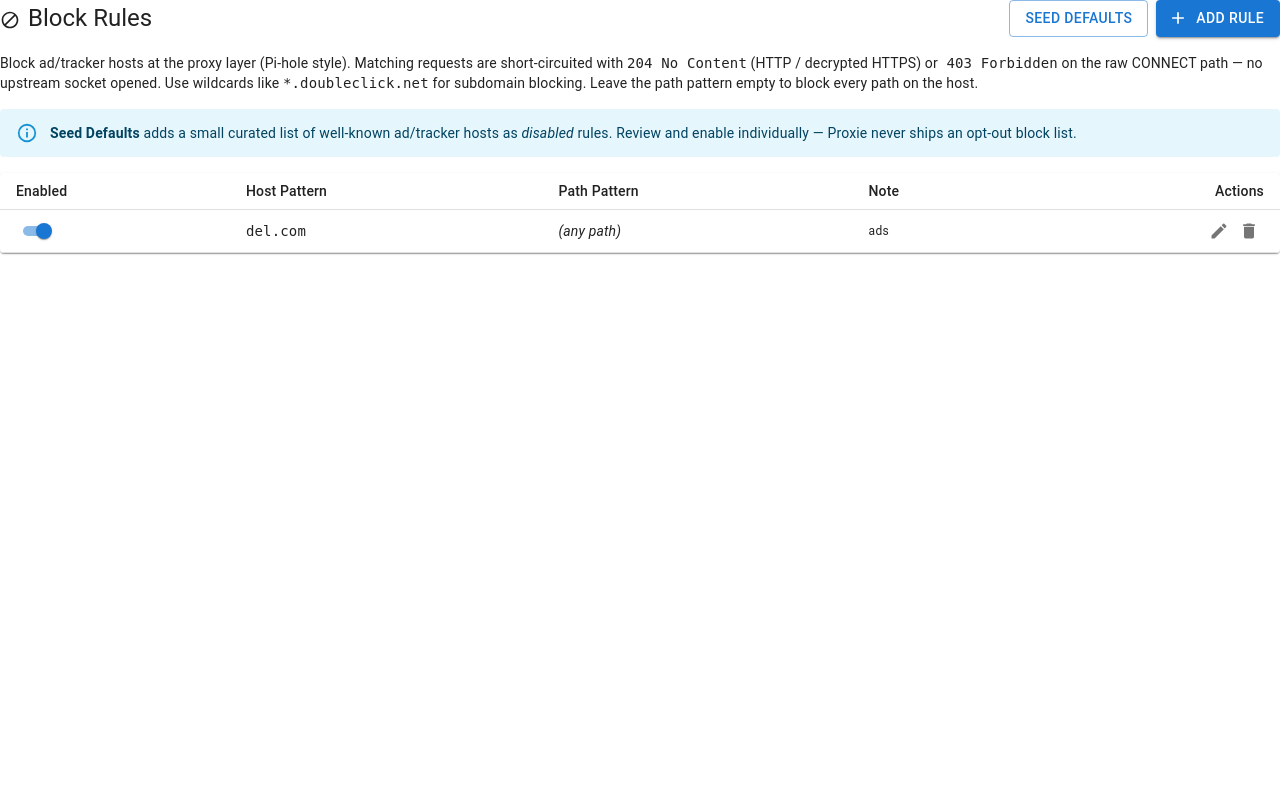
Scenario: BlockRulesPage — additional coverage › logs an error when delete_block_rule rejects
The image size is (1280, 800).
Expected: the text "del.com" is shown, [246, 222, 306, 238]
Click the button named "delete del.com" at {"x": 1249, "y": 230}, box [1234, 216, 1264, 246]
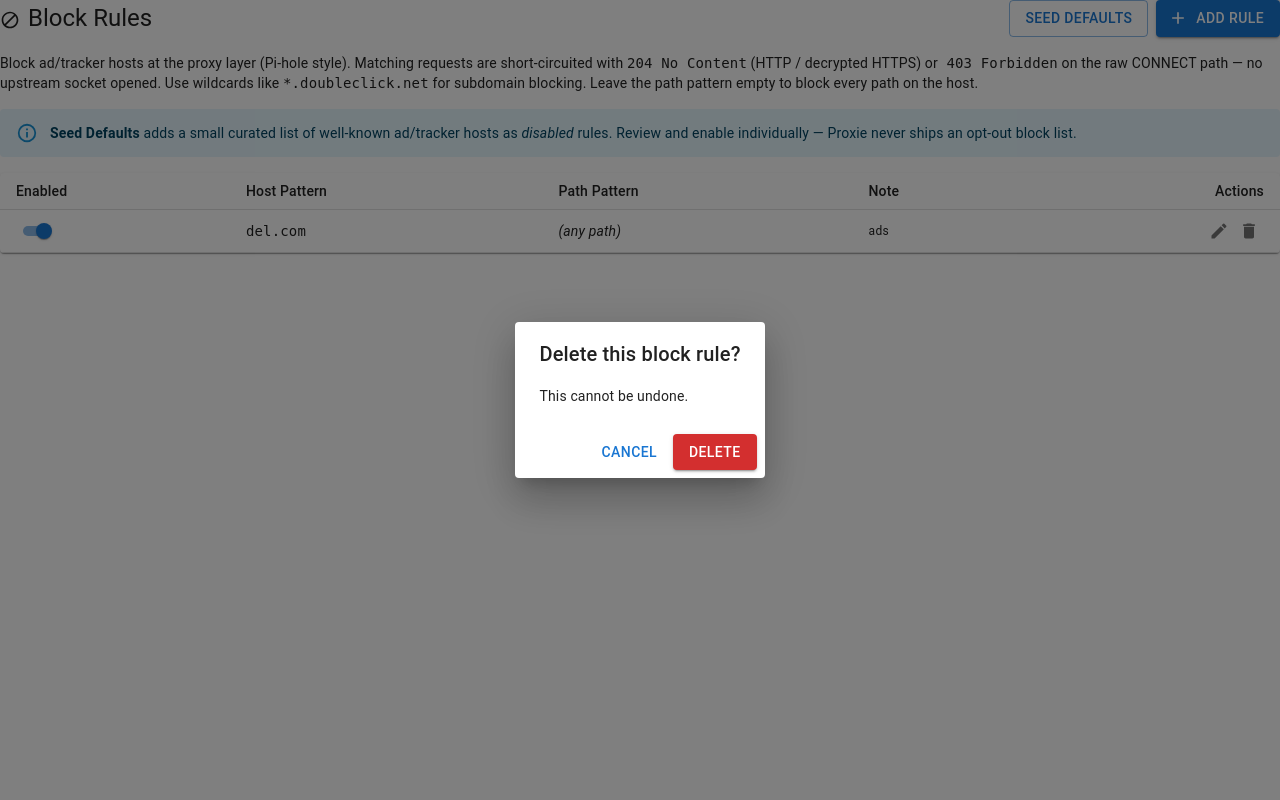
Click the button with test id "confirm-delete" at {"x": 715, "y": 452}, box [673, 434, 756, 470]
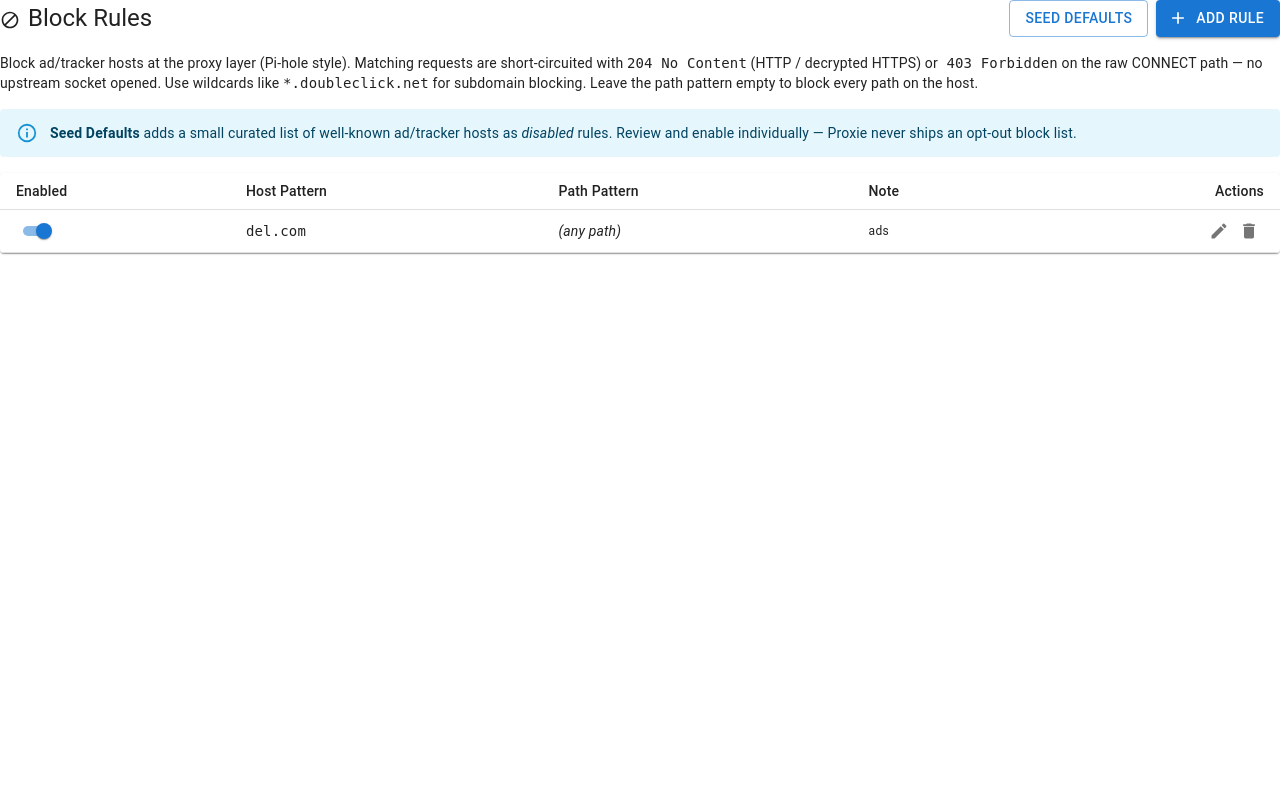
Result: the heading "Delete this block rule" is gone
